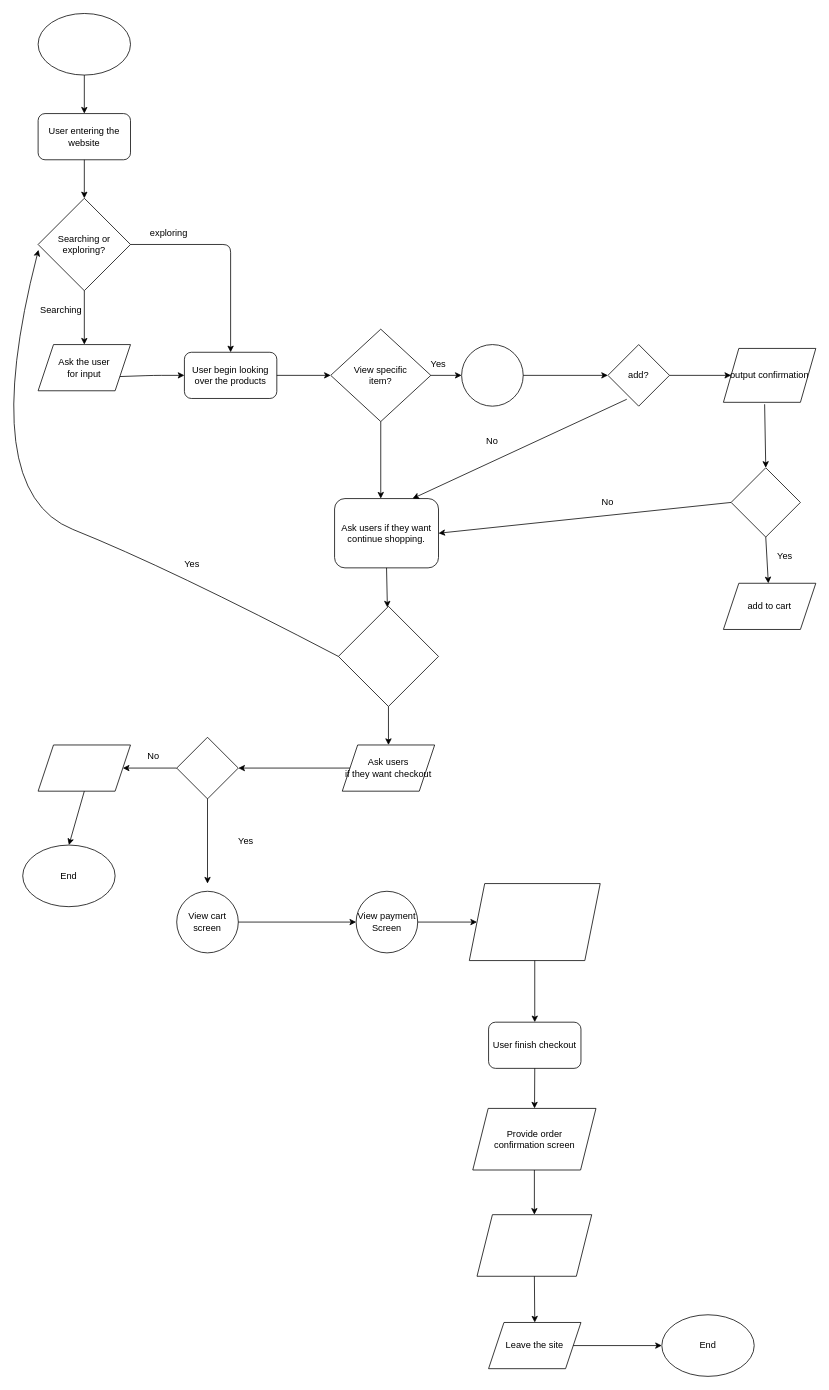
This 829x1390 diagram has some shape labels left out. Each missing label, with the centre of its shape:
"add to cart?" belongs at point 765,502.
"Ask the users to provide their payment information" belongs at point 534,922.
"Chekcout?" belongs at point 207,768.
"continue?" belongs at point 388,656.
"Leave website" belongs at point 84,767.
"Open product page" belongs at point 492,375.
"Send Email order confirmation to user" belongs at point 534,1245.
"Start" belongs at point 84,44.
